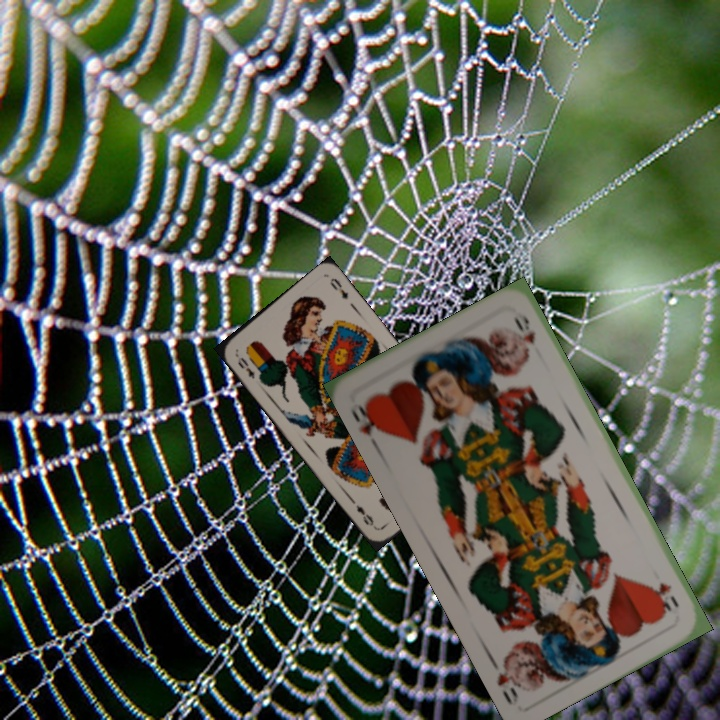EO: (231, 350, 258, 381)
HO: (346, 395, 387, 451), (652, 579, 682, 614)
